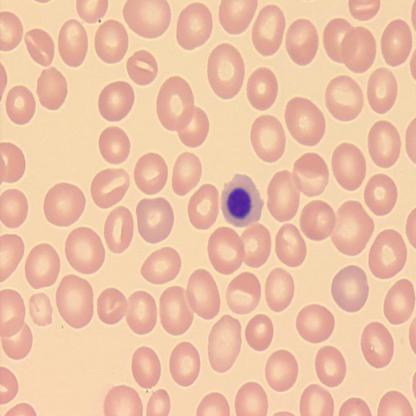NRC: (220, 172, 264, 228)
